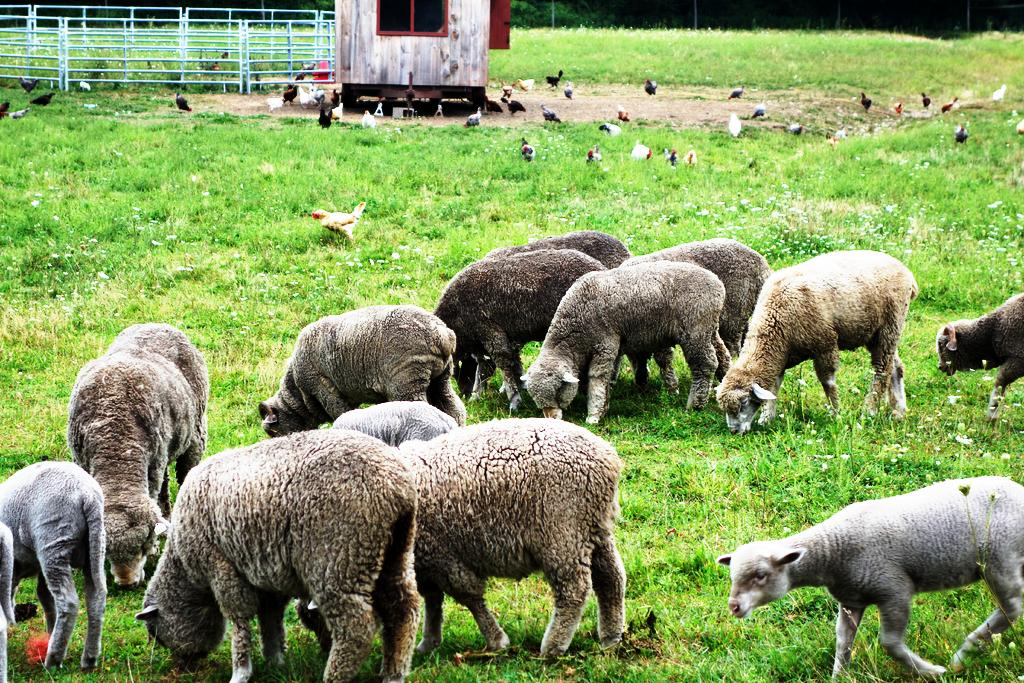Sheep: (710, 467, 1024, 683), (138, 449, 406, 683), (404, 426, 645, 661), (71, 315, 217, 618), (709, 249, 921, 441), (519, 268, 743, 421), (244, 305, 475, 425), (429, 247, 596, 411), (508, 219, 656, 393), (2, 460, 105, 677), (927, 295, 1024, 420), (0, 494, 29, 683), (624, 229, 774, 264), (329, 396, 454, 436)
